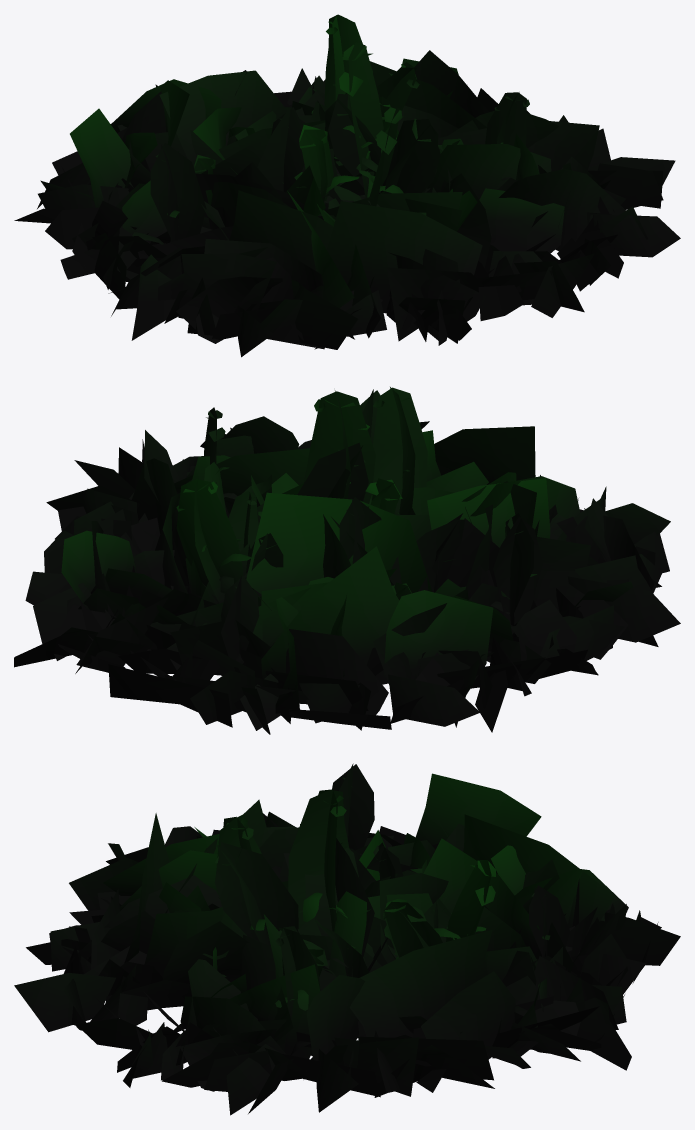
The model's file is Grass Mixed_F.fbx.
3 renders of one model, top to bottom at view 1: azimuth 30°, elevation 25°; view 2: azimuth 150°, elevation 25°; view 3: azimuth 270°, elevation 25°, orthographic. The views are drawn at different scales.
Visible parts, largest first — view 1: Grass MixedF_G_LOD0, Grass MixedF_F_LOD0; view 2: Grass MixedF_G_LOD0, Grass MixedF_F_LOD0; view 3: Grass MixedF_G_LOD0, Grass MixedF_F_LOD0.
Part boxes in pixels (x1,y1,x2,y2): Grass MixedF_G_LOD0: (14, 50, 680, 357); Grass MixedF_F_LOD0: (132, 14, 529, 244); Grass MixedF_G_LOD0: (14, 416, 680, 734); Grass MixedF_F_LOD0: (171, 387, 542, 663); Grass MixedF_G_LOD0: (14, 773, 680, 1115); Grass MixedF_F_LOD0: (202, 763, 572, 1055).
Size of what is drawn, in the model's own units: 2.89 by 1.01 by 2.85.
